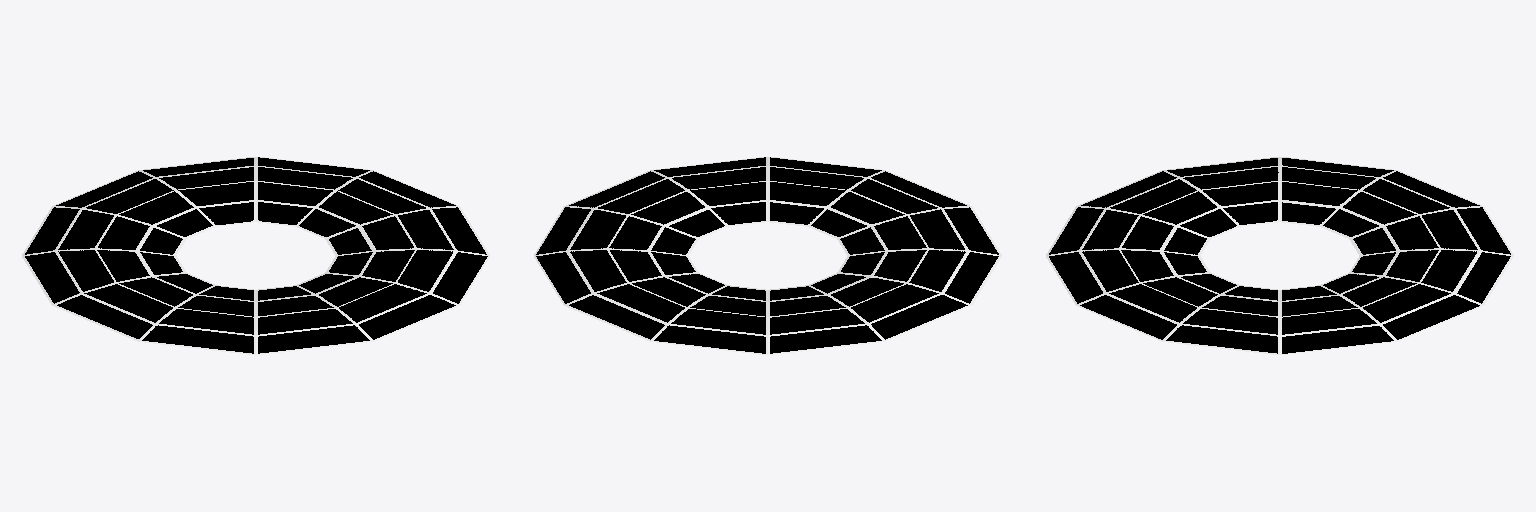
3 renders of one model, left to right at view 1: azimuth 30°, elevation 25°; view 2: azimuth 150°, elevation 25°; view 3: azimuth 270°, elevation 25°, orthographic.
Parts seen in each view (by area): view 1: Torus.003; view 2: Torus.003; view 3: Torus.003.
Part boxes in pixels (left/top/right/bottom): Torus.003: left=22, top=157, right=489, bottom=354; Torus.003: left=534, top=157, right=1001, bottom=354; Torus.003: left=1046, top=157, right=1513, bottom=354.
Bounding box in the file's own units: 5.96 × 0.1939 × 5.94.
Materials: 1 (1 with a texture image).